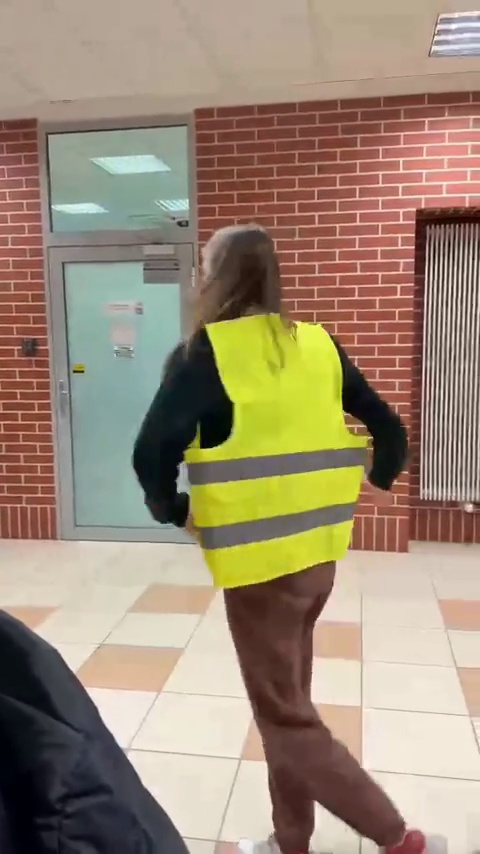vest: (154, 207, 419, 851)
